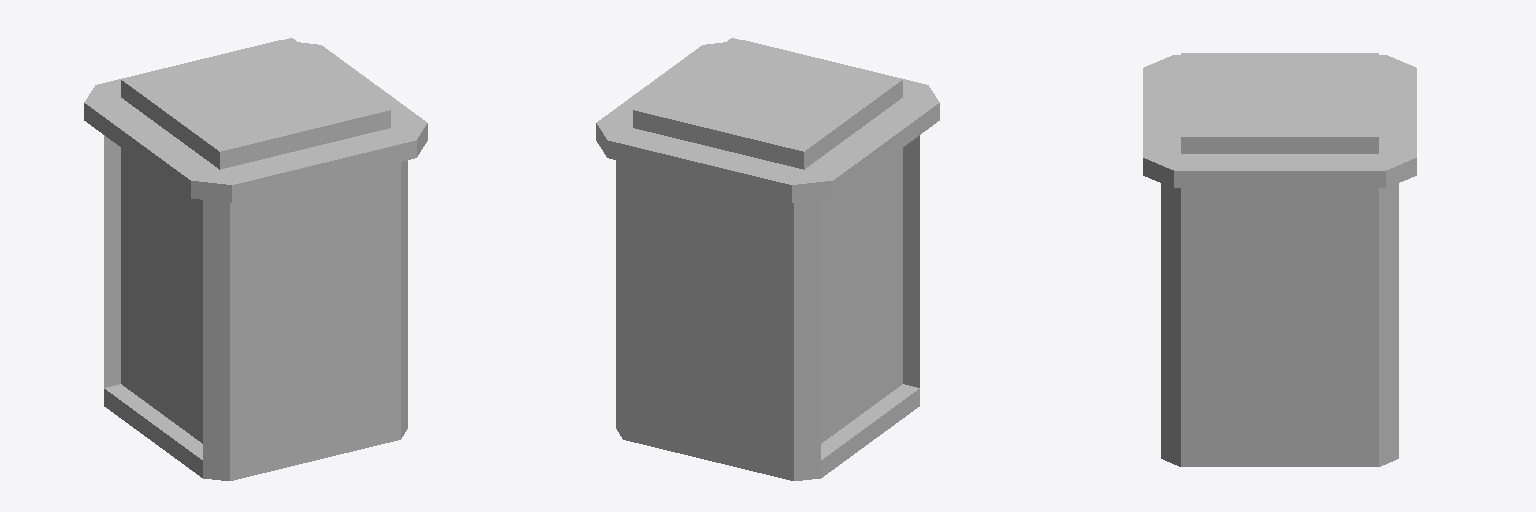
The model's file is Server-Stack-Type-2.obj.
3 views of the same model, side by side, from view 1: azimuth 30°, elevation 25°; view 2: azimuth 150°, elevation 25°; view 3: azimuth 270°, elevation 25° (orthographic).
Parts seen in each view (by area): view 1: Server-Stack-Type-2; view 2: Server-Stack-Type-2; view 3: Server-Stack-Type-2.
Part boxes in pixels (x1,y1,x2,y2): Server-Stack-Type-2: (84,38,427,480); Server-Stack-Type-2: (596,38,939,480); Server-Stack-Type-2: (1143,53,1416,466).
Size of the model in its own units: 1.38 by 1.8 by 1.38.